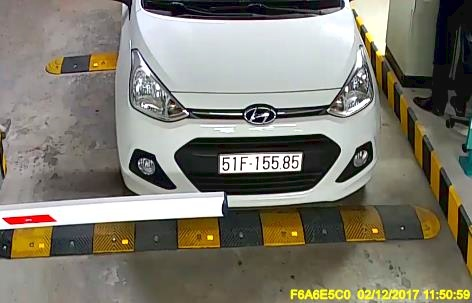plate: (218, 151, 303, 175)
